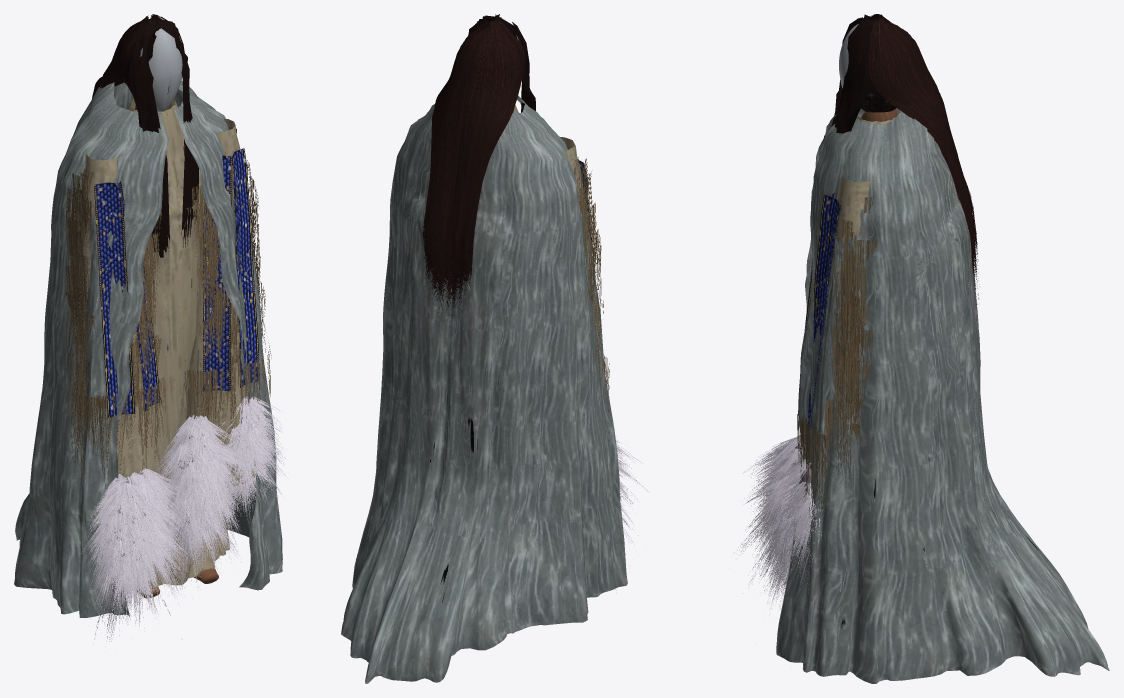
The model's file is eblis.glb.
3 renders of one model, left to right at view 1: azimuth 30°, elevation 25°; view 2: azimuth 150°, elevation 25°; view 3: azimuth 270°, elevation 25°, orthographic. The views are drawn at different scales.
Parts seen in each view (by area): view 1: Rig_Body, Rig_Head, Rig_Face; view 2: Rig_Body, Rig_Head; view 3: Rig_Body, Rig_Head, Rig_Face.
Boxes of the visible parts, x1,y1,x2,y2 form: Rig_Body: (14,81,285,641); Rig_Head: (92,14,198,257); Rig_Face: (122,28,182,111); Rig_Body: (341,95,649,683); Rig_Head: (422,14,535,319); Rig_Body: (738,108,1109,683); Rig_Head: (831,14,979,310); Rig_Face: (839,24,896,116).
Bounding box in the file's own units: 0.8859 × 2.09 × 1.12.
Materials: 6 (6 with a texture image).
